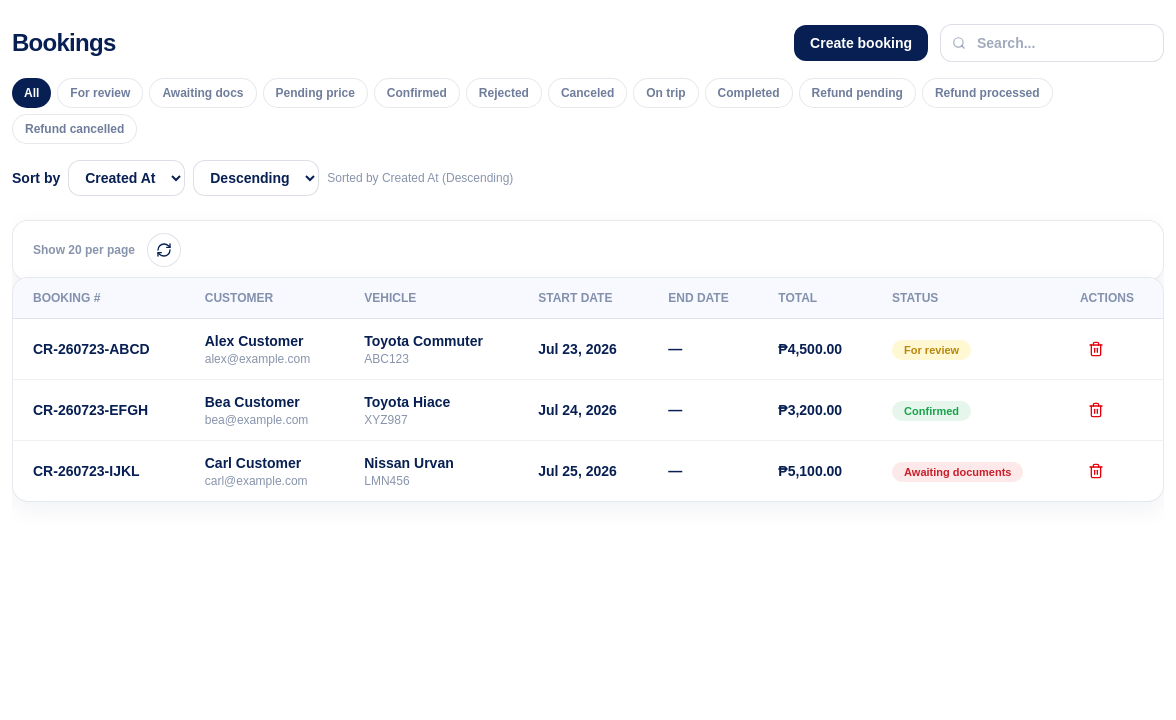
it: AdminBookings › passes the selected sort and resets pagination when sorting changes
The image size is (1176, 720).
Expected: the text "Sorted by Created At (Descending)" is shown, [327,170,513,186]
Select "Start Date" in the dropdown named "Sort bookings by" at {"x": 127, "y": 178}, box [68,160,185,196]
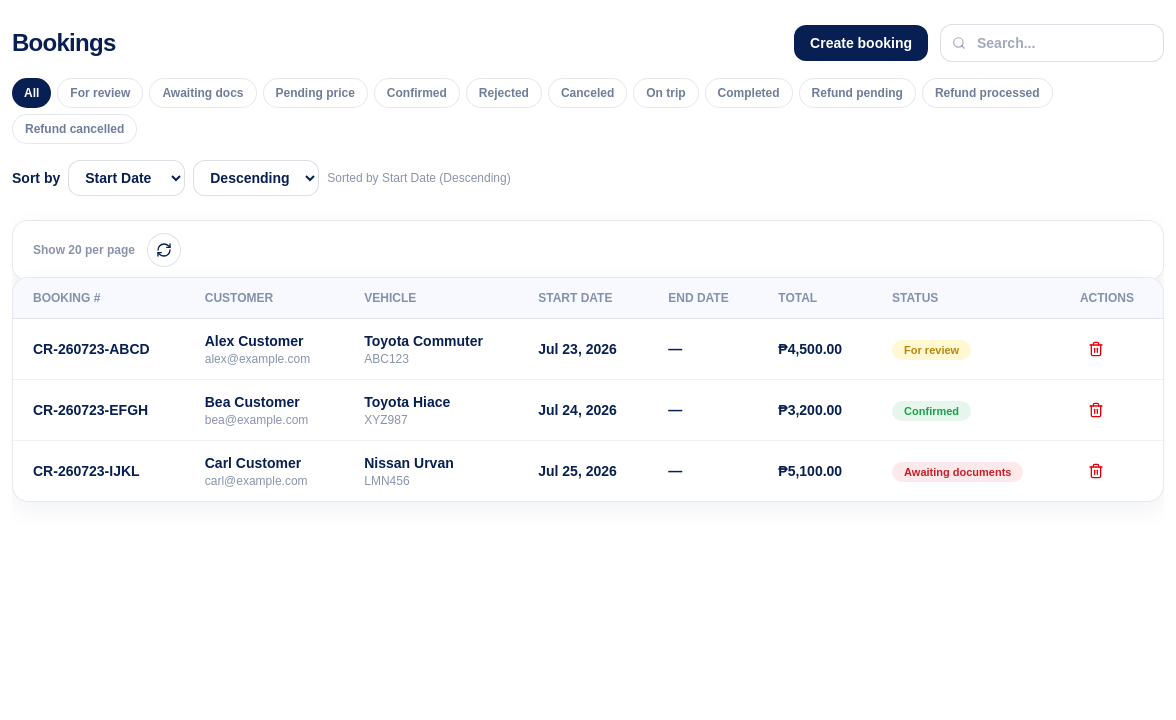
Select "Ascending" in the dropdown named "Sort direction" at {"x": 256, "y": 178}, box [193,160,319,196]
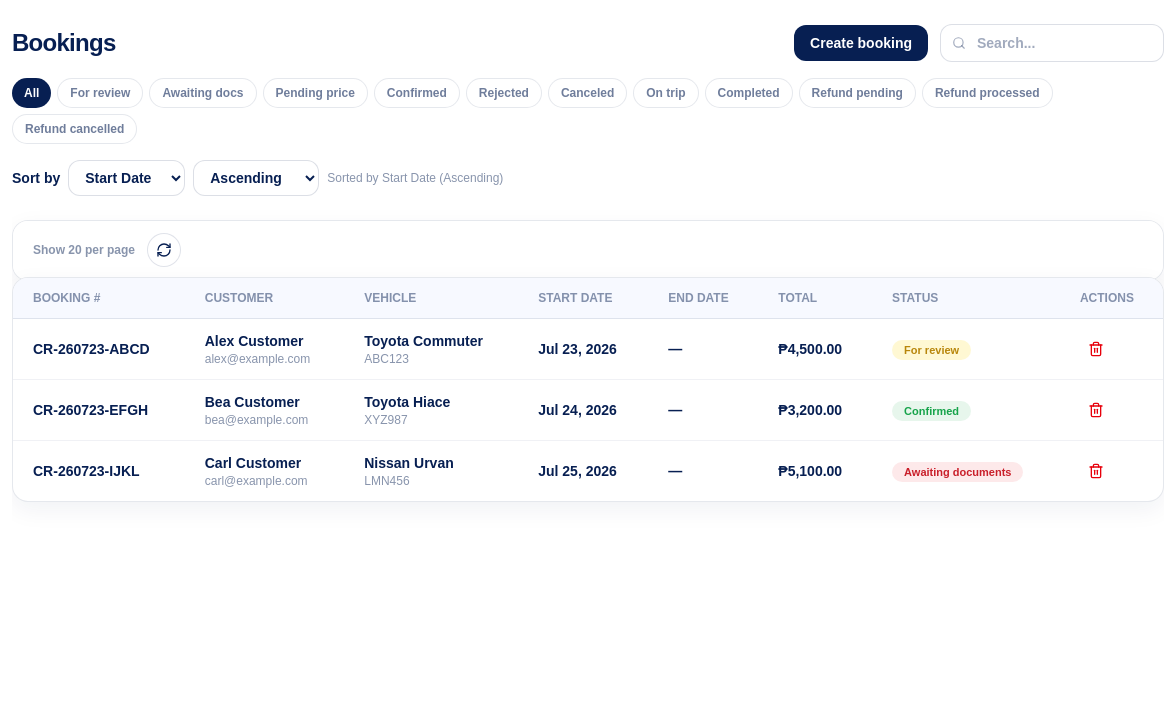
Expected: the text "Sorted by Start Date (Ascending)" is shown, [327,170,503,186]
